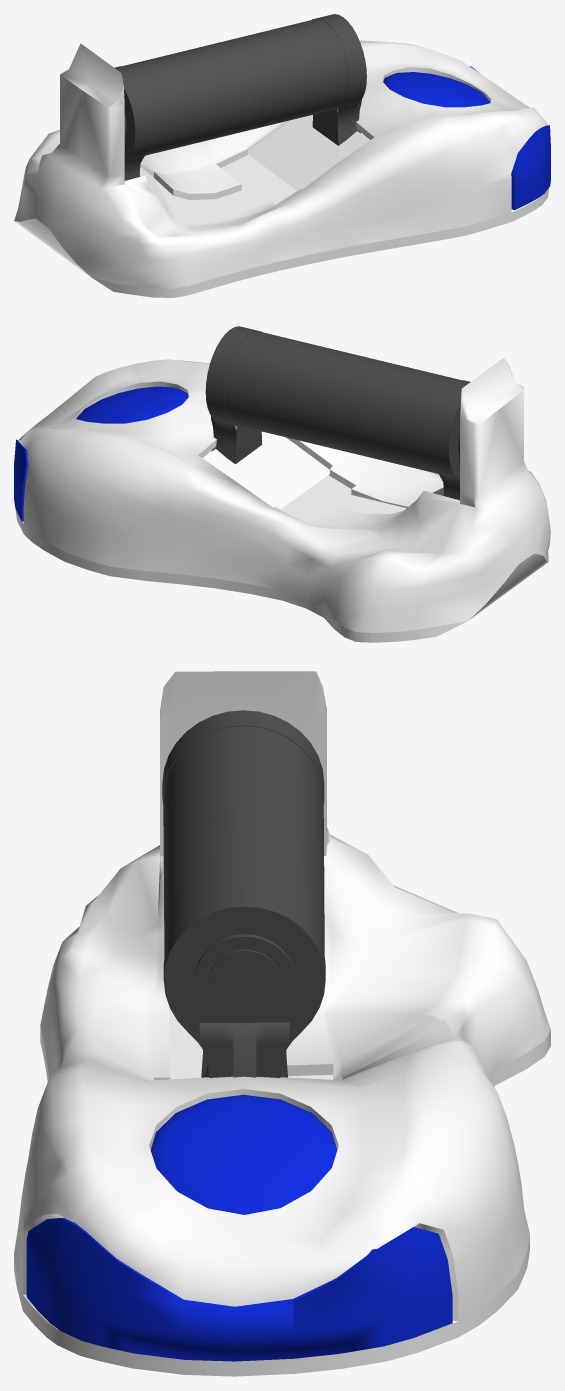
The model's file is LAnkleRoll.dae.
3 views of the same model, one above another, from view 1: azimuth 30°, elevation 25°; view 2: azimuth 150°, elevation 25°; view 3: azimuth 270°, elevation 25° (orthographic). The views are drawn at different scales.
Visible parts, largest first — view 1: LAnkleRoll; view 2: LAnkleRoll; view 3: LAnkleRoll.
Boxes of the visible parts, x1,y1,x2,y2 form: LAnkleRoll: [14, 14, 550, 297]; LAnkleRoll: [14, 326, 550, 642]; LAnkleRoll: [14, 671, 550, 1376].
Size of the model in its own units: 0.1603 by 0.0905 by 0.0647.
Materials: 1 (1 with a texture image).
